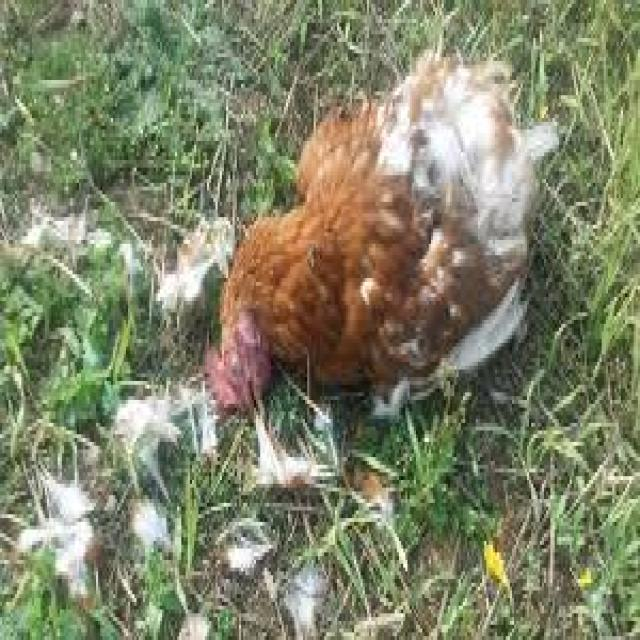dead: (191, 64, 550, 428)
